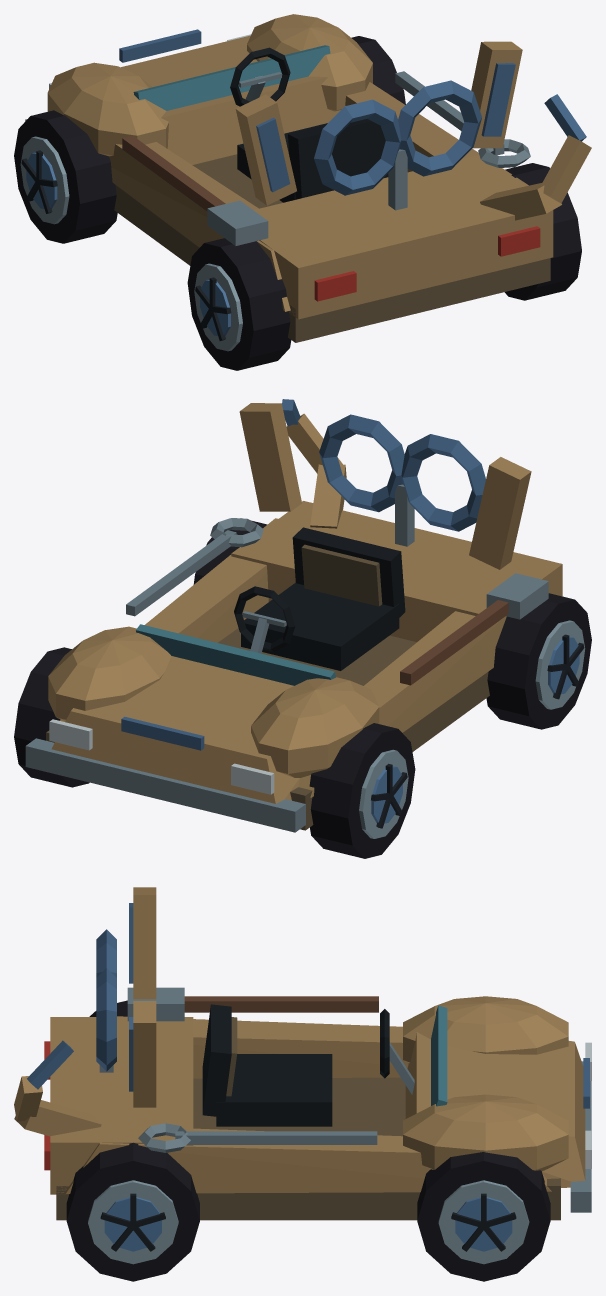
Rendered from kart.glb.
3 renders of one model, top to bottom at view 1: azimuth 30°, elevation 25°; view 2: azimuth 150°, elevation 25°; view 3: azimuth 270°, elevation 25°, orthographic.
Visible parts, largest first — view 1: identity-toy-car-toy-rounded-body-and-wind-up-key, wheel-rear-left, wheel-front-left, identity-toy-car-motif-ears, identity-toy-car-driver-cockpit, identity-toy-car-motif-tools, identity-toy-car-motif-tail, wheel-rear-right, wheel-front-right; view 2: identity-toy-car-toy-rounded-body-and-wind-up-key, identity-toy-car-driver-cockpit, wheel-front-left, wheel-rear-left, identity-toy-car-motif-ears, identity-toy-car-motif-tools, wheel-front-right, identity-toy-car-motif-tail; view 3: identity-toy-car-toy-rounded-body-and-wind-up-key, wheel-rear-right, wheel-front-right, identity-toy-car-driver-cockpit, identity-toy-car-motif-tools, identity-toy-car-motif-ears, identity-toy-car-motif-tail.
Boxes of the visible parts, <box> form: identity-toy-car-toy-rounded-body-and-wind-up-key: <box>25,14,553,342</box>; wheel-rear-left: <box>187,238,291,370</box>; wheel-front-left: <box>14,110,117,243</box>; identity-toy-car-motif-ears: <box>235,41,522,205</box>; identity-toy-car-driver-cockpit: <box>230,47,388,202</box>; identity-toy-car-motif-tools: <box>122,71,530,245</box>; identity-toy-car-motif-tail: <box>480,94,591,220</box>; wheel-rear-right: <box>504,163,581,300</box>; wheel-front-right: <box>351,36,405,104</box>; identity-toy-car-toy-rounded-body-and-wind-up-key: <box>25,414,562,832</box>; identity-toy-car-driver-cockpit: <box>234,527,405,670</box>; wheel-front-left: <box>309,723,415,858</box>; wheel-rear-left: <box>486,593,591,729</box>; identity-toy-car-motif-ears: <box>239,403,531,569</box>; identity-toy-car-motif-tools: <box>126,518,548,685</box>; wheel-front-right: <box>14,647,89,787</box>; identity-toy-car-motif-tail: <box>282,399,346,528</box>; identity-toy-car-toy-rounded-body-and-wind-up-key: <box>44,929,591,1220</box>; wheel-rear-right: <box>66,1142,199,1281</box>; wheel-front-right: <box>417,1152,550,1281</box>; identity-toy-car-driver-cockpit: <box>202,1004,414,1126</box>; identity-toy-car-motif-tools: <box>127,987,378,1152</box>; identity-toy-car-motif-ears: <box>129,887,156,1107</box>; identity-toy-car-motif-tail: <box>14,1040,101,1136</box>.
Bounding box in the file's own units: 2.13 × 1.46 × 3.03.
